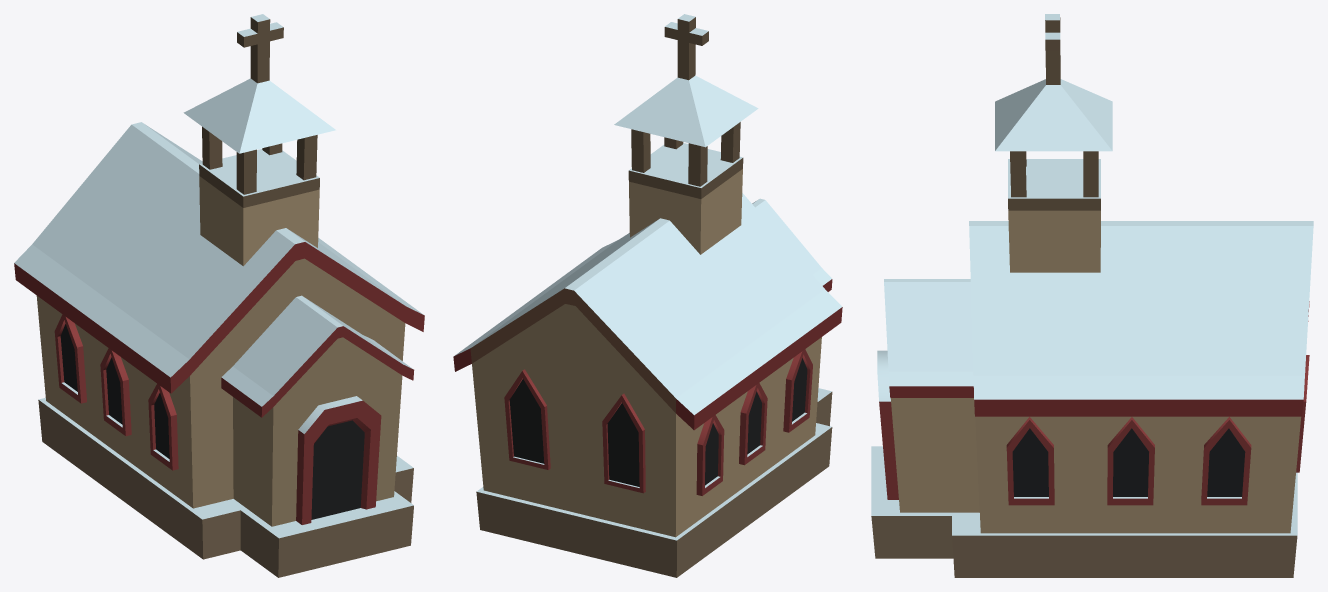
The model's file is SM_Bld_Western_Church_01_Snow.fbx.
3 renders of one model, left to right at view 1: azimuth 30°, elevation 25°; view 2: azimuth 150°, elevation 25°; view 3: azimuth 270°, elevation 25°, orthographic. The views are drawn at different scales.
Visible parts, largest first — view 1: SM_Bld_Western_Church_01_Snow; view 2: SM_Bld_Western_Church_01_Snow; view 3: SM_Bld_Western_Church_01_Snow.
Boxes of the visible parts, box(x1,y1,x2,y2) form: SM_Bld_Western_Church_01_Snow: box(14, 14, 424, 577); SM_Bld_Western_Church_01_Snow: box(453, 14, 842, 577); SM_Bld_Western_Church_01_Snow: box(871, 14, 1313, 577).
Bounding box in the file's own units: 91.34 × 165 × 131.
Materials: 1 (1 with a texture image).
